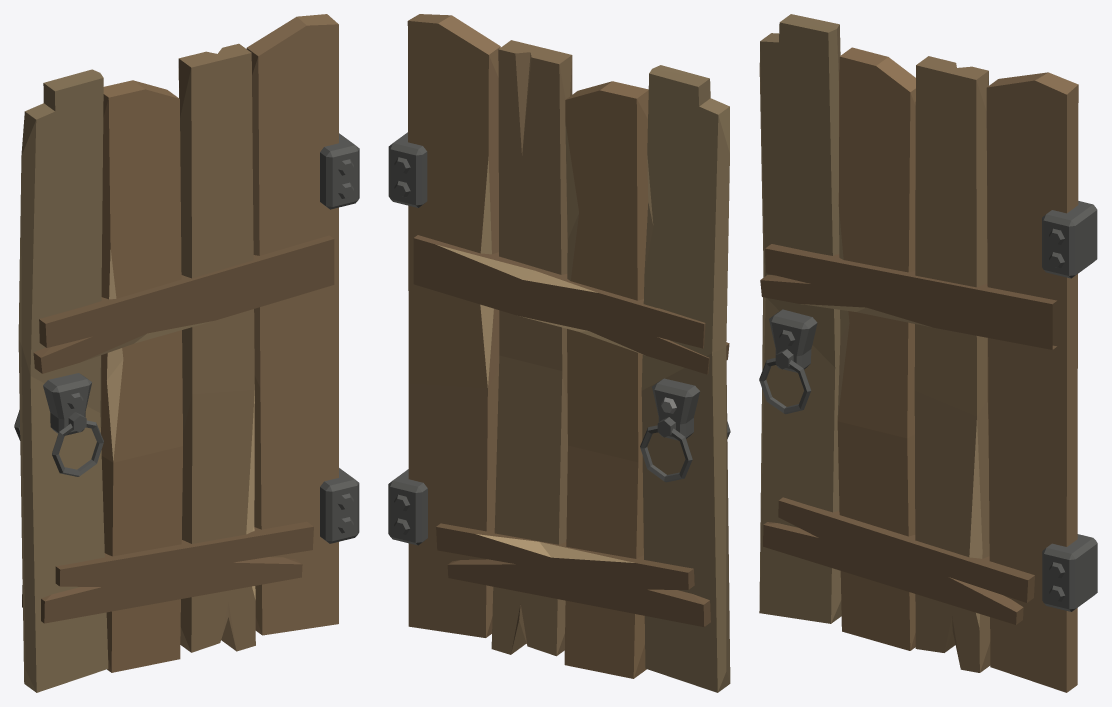
The model's file is rpgpp_ag_door_gate_02_right.fbx.
3 renders of one model, left to right at view 1: azimuth 30°, elevation 25°; view 2: azimuth 150°, elevation 25°; view 3: azimuth 330°, elevation 25°, orthographic.
Parts seen in each view (by area): view 1: rpgpp_ag_door_gate_02_right; view 2: rpgpp_ag_door_gate_02_right; view 3: rpgpp_ag_door_gate_02_right.
Part boxes in pixels (x1,y1,x2,y2): rpgpp_ag_door_gate_02_right: (14,14,359,692); rpgpp_ag_door_gate_02_right: (388,14,730,692); rpgpp_ag_door_gate_02_right: (759,14,1097,692).
Size of the model in its own units: 2.08 by 3.69 by 0.4736.
